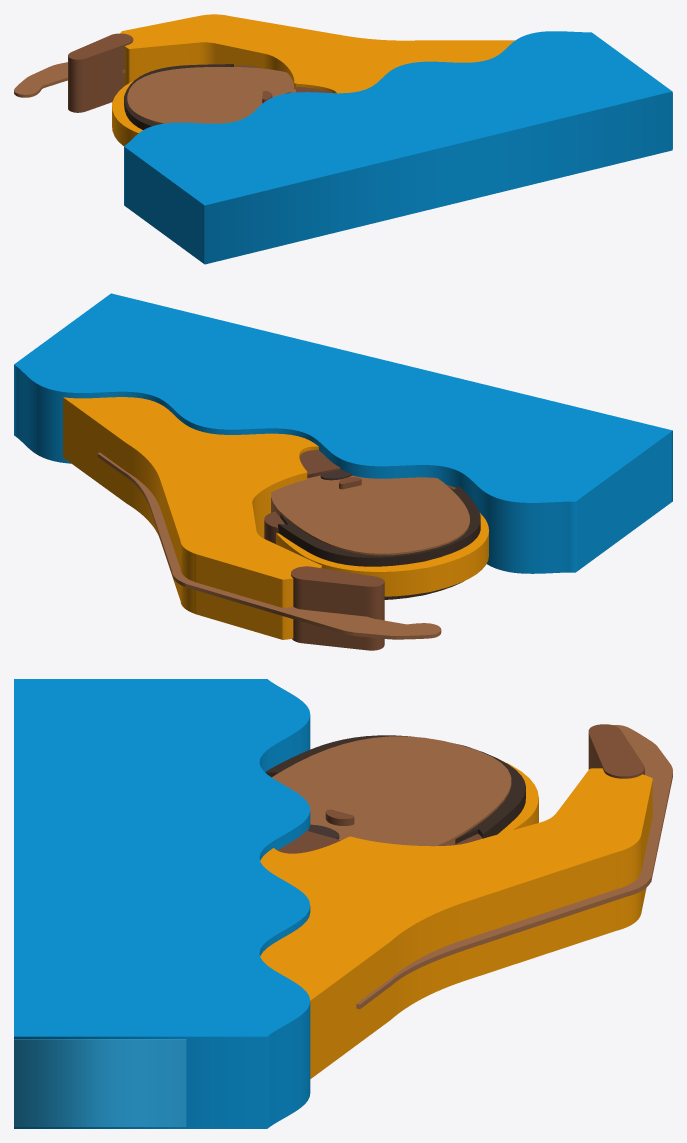
File: emoji_u1f3ca_1f3fe.glb
3 renders of one model, top to bottom at view 1: azimuth 30°, elevation 25°; view 2: azimuth 150°, elevation 25°; view 3: azimuth 270°, elevation 25°, orthographic. The views are drawn at different scales.
Parts seen in each view (by area): view 1: emoji_u1f3ca_1f3fe; view 2: emoji_u1f3ca_1f3fe; view 3: emoji_u1f3ca_1f3fe.
Part boxes in pixels (x1,y1,x2,y2): emoji_u1f3ca_1f3fe: (14, 14, 672, 264); emoji_u1f3ca_1f3fe: (14, 293, 672, 650); emoji_u1f3ca_1f3fe: (14, 679, 672, 1128).
Bounding box in the file's own units: 0.0332 × 0.004 × 0.0258.
